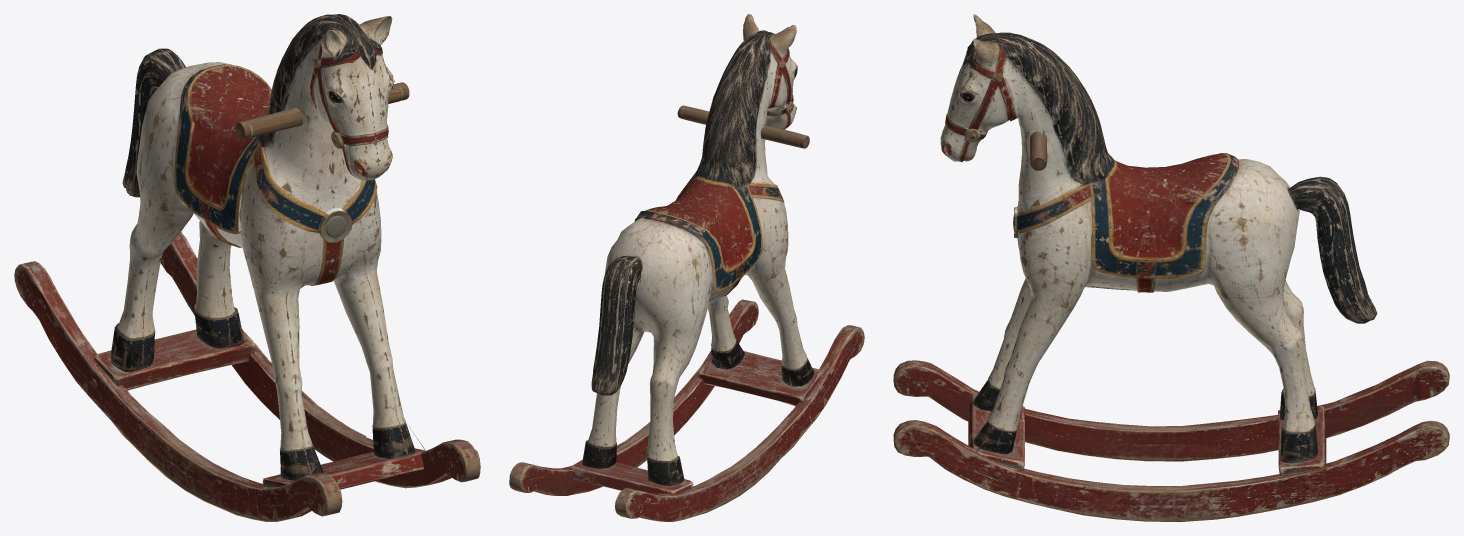
File: rocking-horse.glb
3 views of the same model, side by side, from view 1: azimuth 30°, elevation 25°; view 2: azimuth 150°, elevation 25°; view 3: azimuth 270°, elevation 25° (orthographic). The views are drawn at different scales.
Size of the model in its own units: 0.29 by 0.873 by 0.9526.
1 material, 1 textured.
